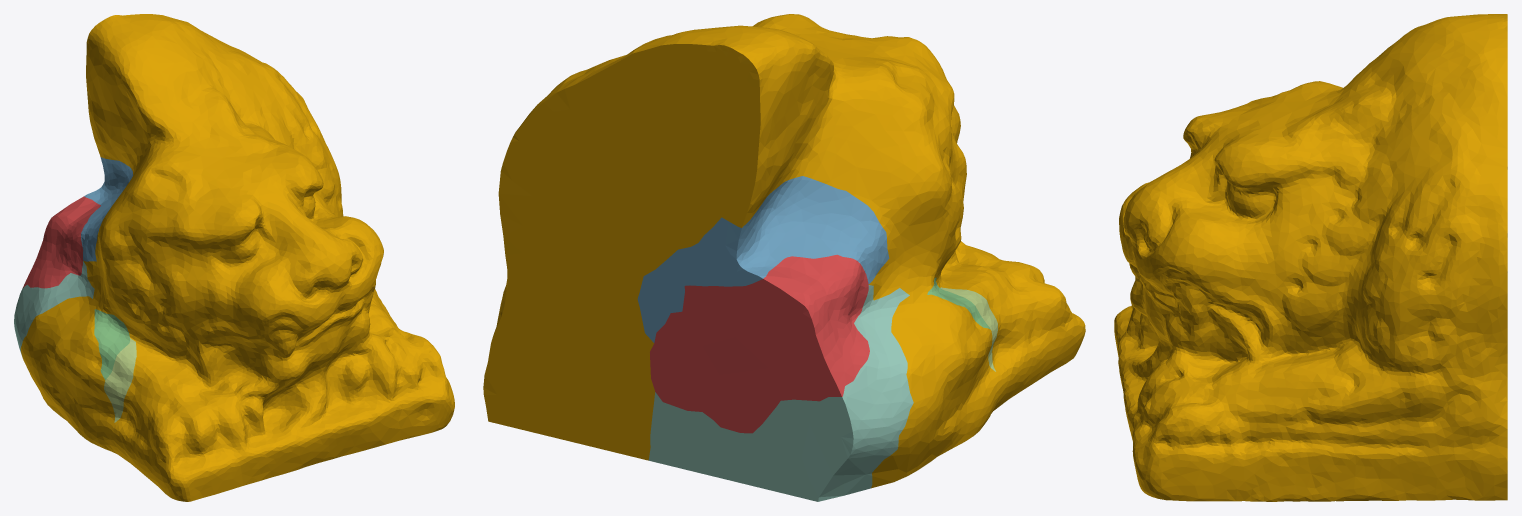
The model's file is fractured_12_6pcs.glb.
The picture shows the model from 3 angles, left to right: view 1: azimuth 30°, elevation 25°; view 2: azimuth 150°, elevation 25°; view 3: azimuth 270°, elevation 25°; orthographic projection. The views are drawn at different scales.
Parts seen in each view (by area): view 1: piece_0.obj, piece_1.obj, piece_4.obj, piece_2.obj, piece_3.obj, piece_5.obj; view 2: piece_0.obj, piece_1.obj, piece_4.obj, piece_2.obj, piece_5.obj, piece_3.obj; view 3: piece_0.obj.
Boxes of the visible parts, x1,y1,x2,y2 form: piece_0.obj: [20, 14, 454, 501]; piece_1.obj: [23, 196, 100, 288]; piece_4.obj: [14, 261, 94, 355]; piece_2.obj: [81, 157, 133, 261]; piece_3.obj: [94, 309, 129, 380]; piece_5.obj: [104, 338, 136, 422]; piece_0.obj: [483, 14, 1085, 488]; piece_1.obj: [650, 254, 869, 433]; piece_4.obj: [648, 285, 913, 501]; piece_2.obj: [637, 176, 889, 342]; piece_5.obj: [940, 287, 997, 371]; piece_3.obj: [927, 277, 990, 329]; piece_0.obj: [1114, 14, 1507, 501].
Bounding box in the file's own units: 0.966 × 1 × 0.9361.
